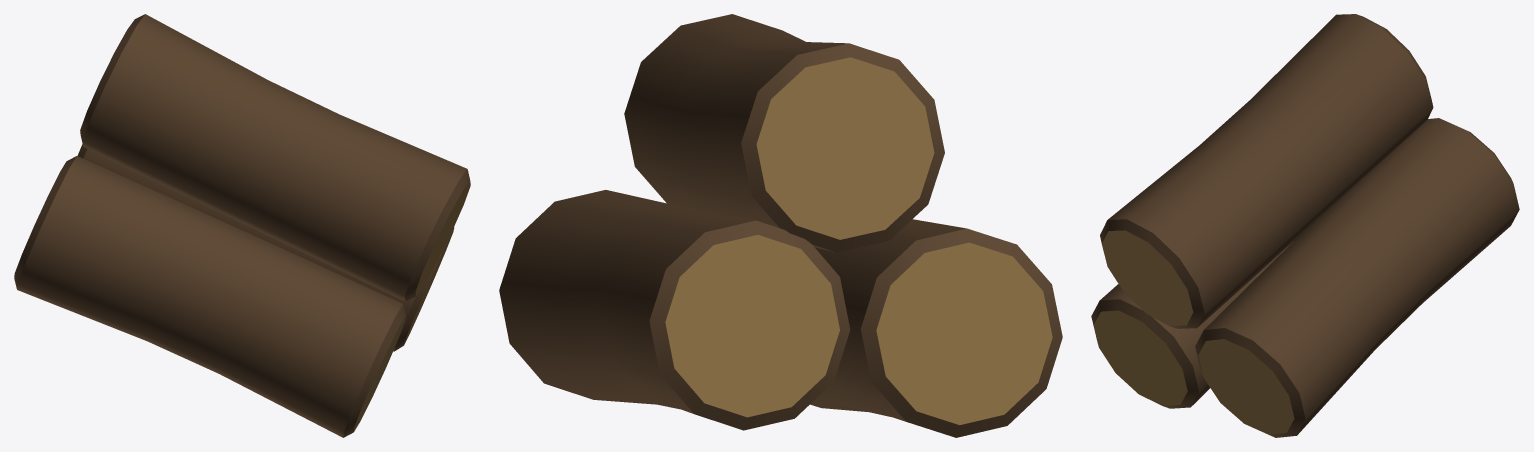
Rendered from Wood.glb.
3 renders of one model, left to right at view 1: azimuth 30°, elevation 25°; view 2: azimuth 150°, elevation 25°; view 3: azimuth 270°, elevation 25°, orthographic. The views are drawn at different scales.
Parts seen in each view (by area): view 1: UI_Wood; view 2: UI_Wood; view 3: UI_Wood.
Boxes of the visible parts, x1,y1,x2,y2 form: UI_Wood: [14, 14, 470, 437]; UI_Wood: [499, 14, 1062, 437]; UI_Wood: [1091, 14, 1519, 437].
Size of the model in its own units: 0.5581 by 0.4678 by 0.5338.
Materials: 1 (1 with a texture image).
